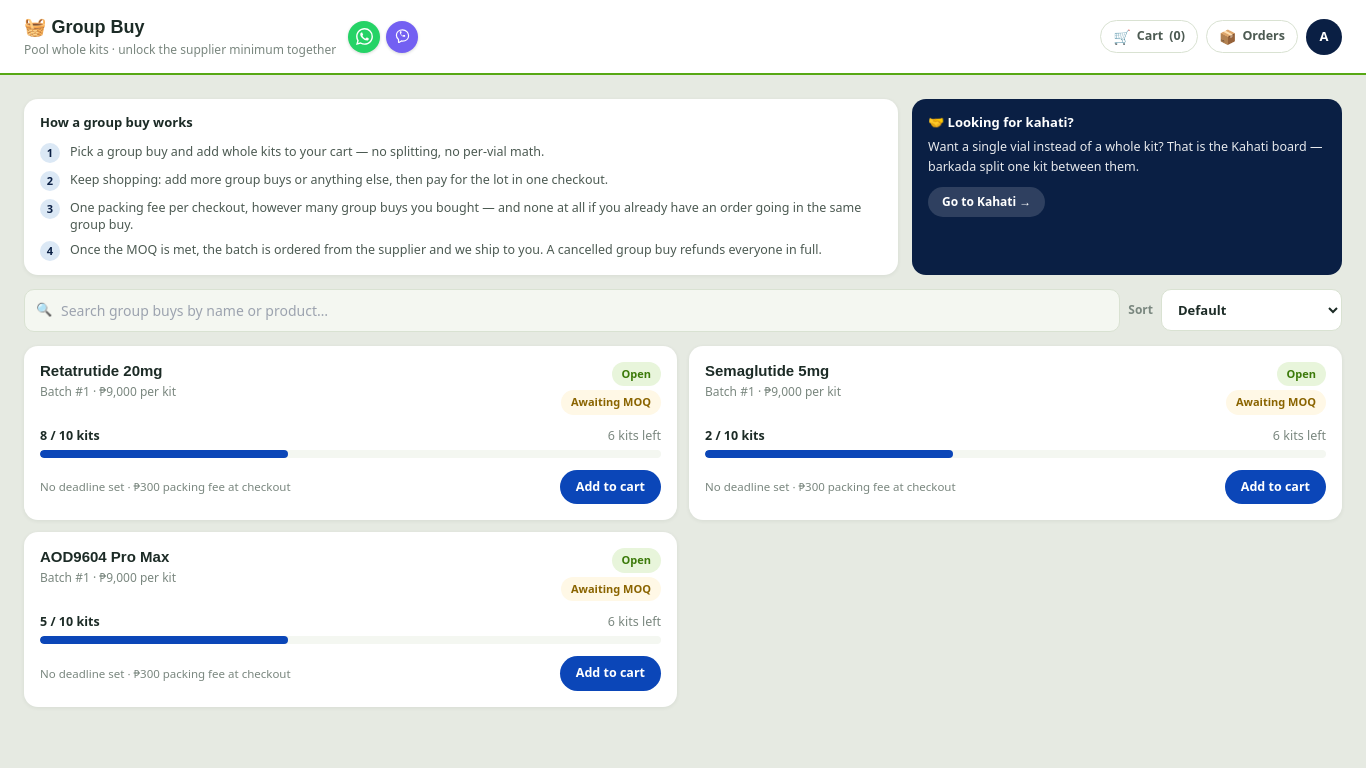
Test case: GroupBuyPage — search › reports an empty search distinctly from an empty board
Type "insulin" into the search field.
click(572, 310); type("insulin")  # box left=24, top=289, right=1120, bottom=332
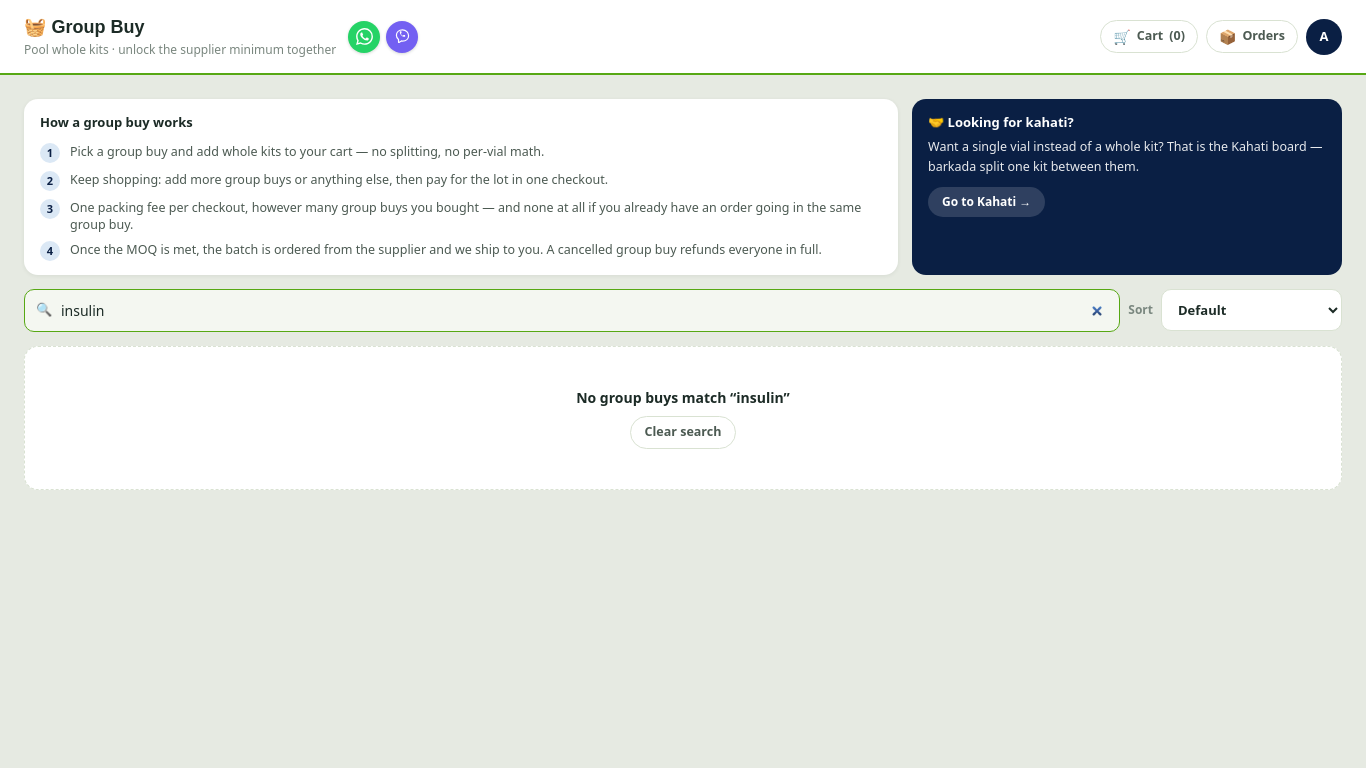
Expected: the text "No group buys match “insulin”" is shown, left=576, top=388, right=790, bottom=407
